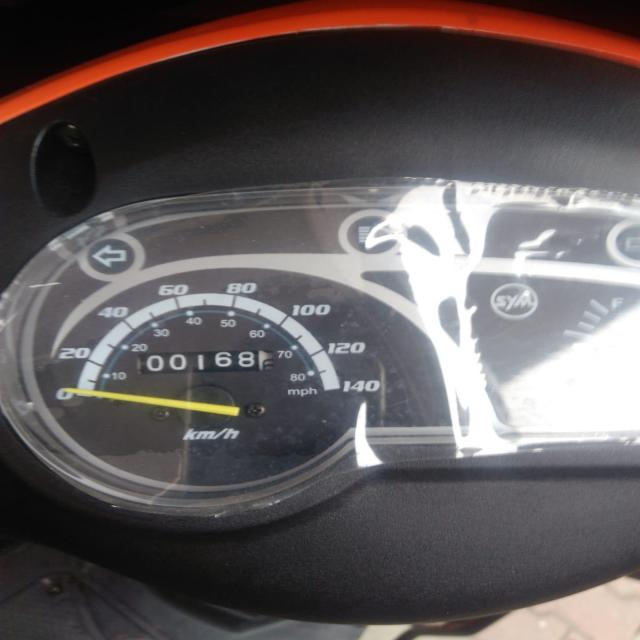odometer: (135, 349, 276, 376)
